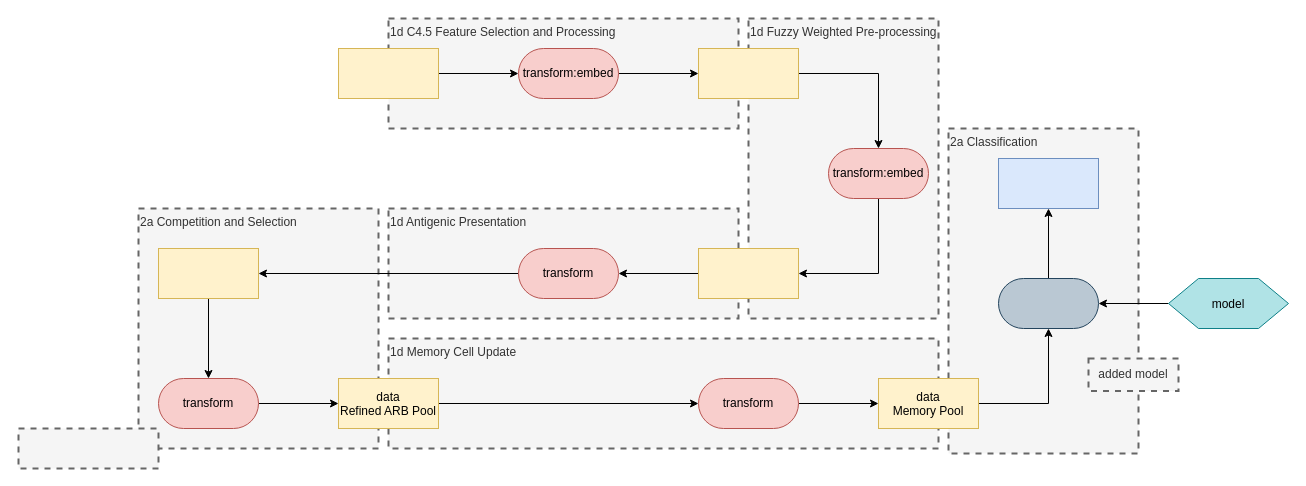
Image size: 1306x486. Some labels were removed from this diagram. The centre of each missing label's shape, as x and y in pixels:
data ARB Pool: point 208,273
data Raw Patient Records: point 388,73
data Reduced Dataset: point 748,73
data Weighted Dataset: point 748,273
infer:deduce: point 1048,303
replaced infer:deduce with transform: point 88,448
symbol Patient Record Classification: point 1048,183
